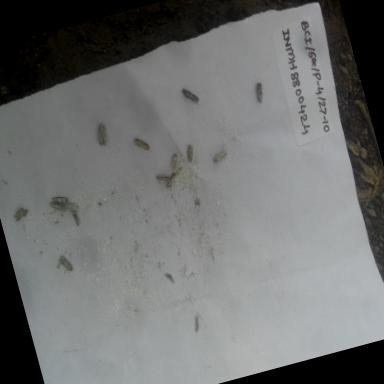pbw: (130, 130, 157, 160), (178, 84, 206, 112), (251, 76, 269, 111), (92, 120, 112, 150), (55, 250, 76, 278), (180, 138, 200, 166), (10, 202, 34, 225), (165, 148, 184, 174), (68, 200, 84, 230), (152, 168, 176, 187), (50, 190, 72, 210), (161, 170, 181, 190), (211, 147, 231, 167), (47, 198, 67, 216), (64, 200, 83, 213)
